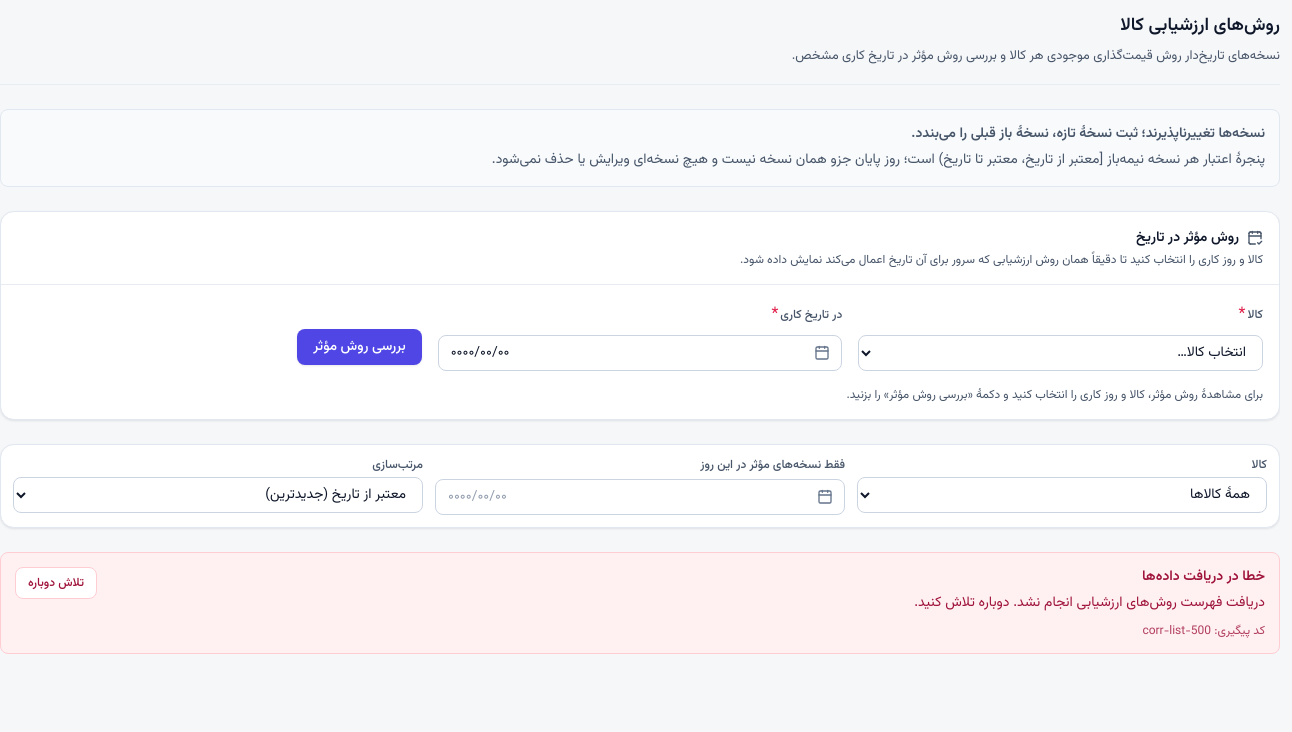
ValuationMethodsPage — list, immutability, sorting & permissions › renders Persian ApiErrorAlert with correlationId on list failure and retries cleanly
The image size is (1292, 732).
Expected: the message that starts with "خطا در دریافت داده‌ها" shows "دریافت فهرست روش‌های ارزشیابی انجام نشد. دوباره تلاش کنید.", x1=914 y1=592 x2=1265 y2=614
Expected: the message that starts with "خطا در دریافت داده‌ها" shows "corr-list-500", x1=1142 y1=622 x2=1211 y2=640
Click the button "تلاش دوباره" at (56,583), box x1=15 y1=567 x2=97 y2=599
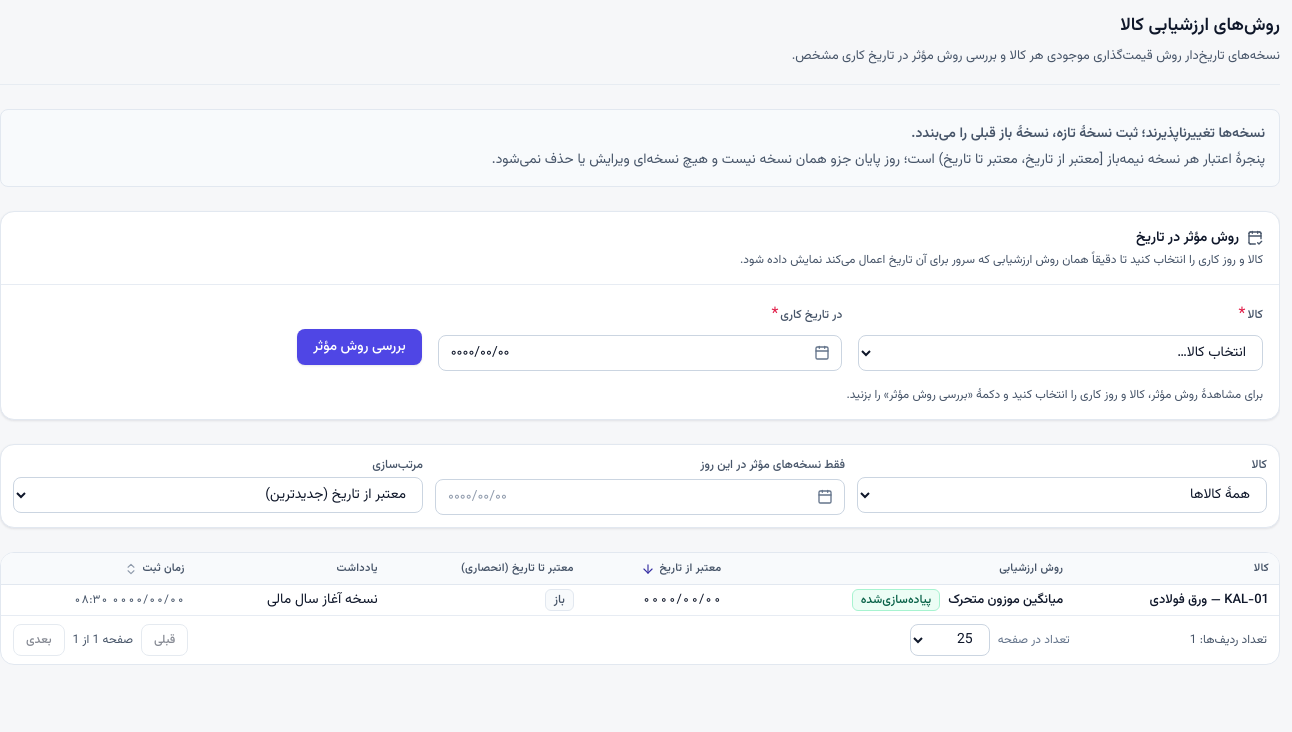
Result: the text "نسخه آغاز سال مالی" is shown at x1=267 y1=589 x2=378 y2=611
